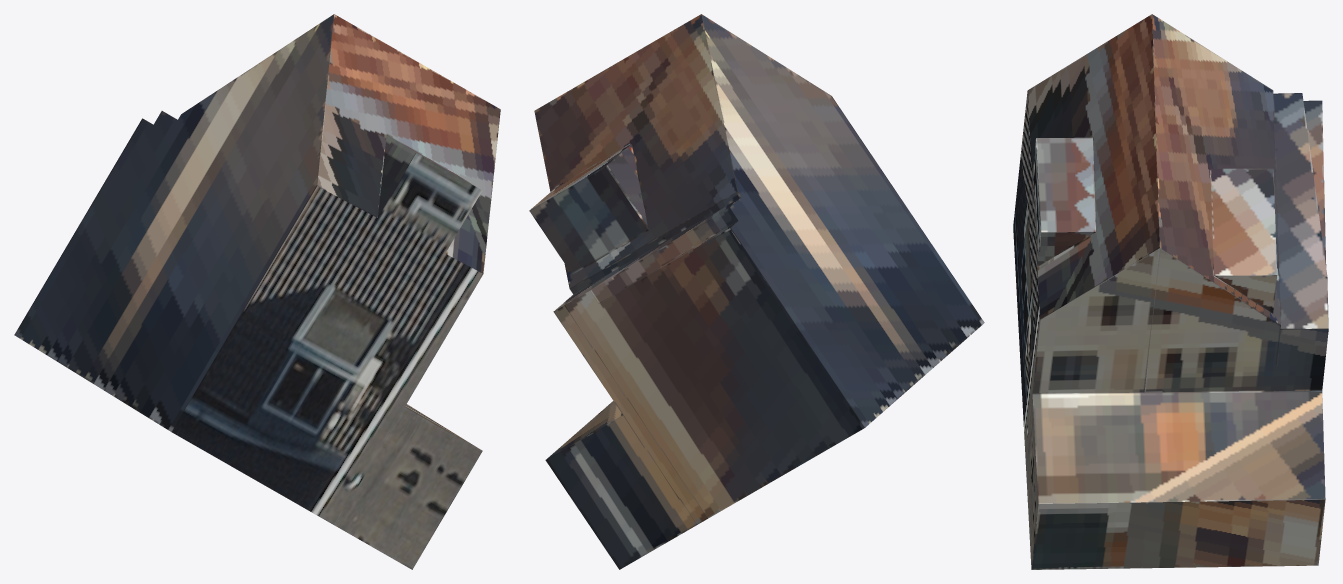
3 renders of one model, left to right at view 1: azimuth 30°, elevation 25°; view 2: azimuth 150°, elevation 25°; view 3: azimuth 270°, elevation 25°, orthographic. The views are drawn at different scales.
Parts seen in each view (by area): view 1: BAG_0599100110002040 (×3); view 2: BAG_0599100110002040 (×5); view 3: BAG_0599100110002040 (×4).
Boxes of the visible parts, x1,y1,x2,y2 form: BAG_0599100110002040 (×3): (14, 14, 500, 569); BAG_0599100110002040 (×5): (529, 14, 984, 569); BAG_0599100110002040 (×4): (1013, 14, 1328, 569).
Bounding box in the file's own units: 11.18 × 13.43 × 7.
2 materials, 1 textured.
